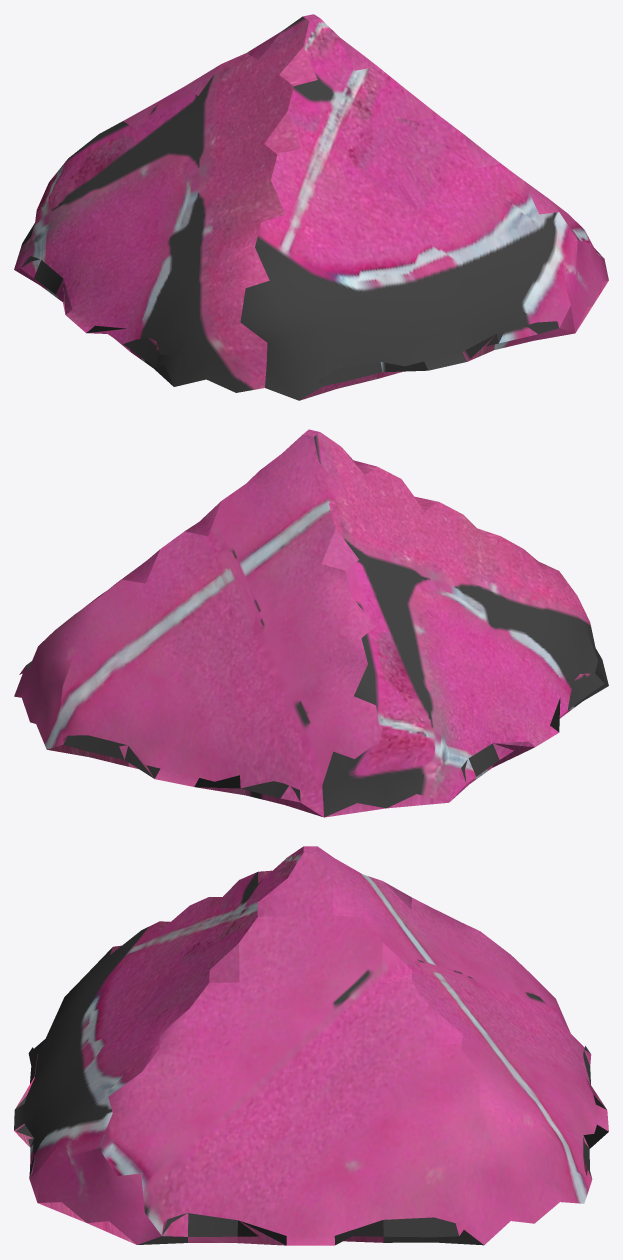
Rendered from military2.fbx.
3 views of the same model, one above another, from view 1: azimuth 30°, elevation 25°; view 2: azimuth 150°, elevation 25°; view 3: azimuth 270°, elevation 25° (orthographic). The views are drawn at different scales.
Parts seen in each view (by area): view 1: lp; view 2: lp; view 3: lp.
Boxes of the visible parts, x1,y1,x2,y2 form: lp: [14, 14, 608, 400]; lp: [14, 429, 608, 817]; lp: [14, 846, 608, 1245].
Bounding box in the file's own units: 150 × 78.36 × 150.
1 material, 1 textured.
